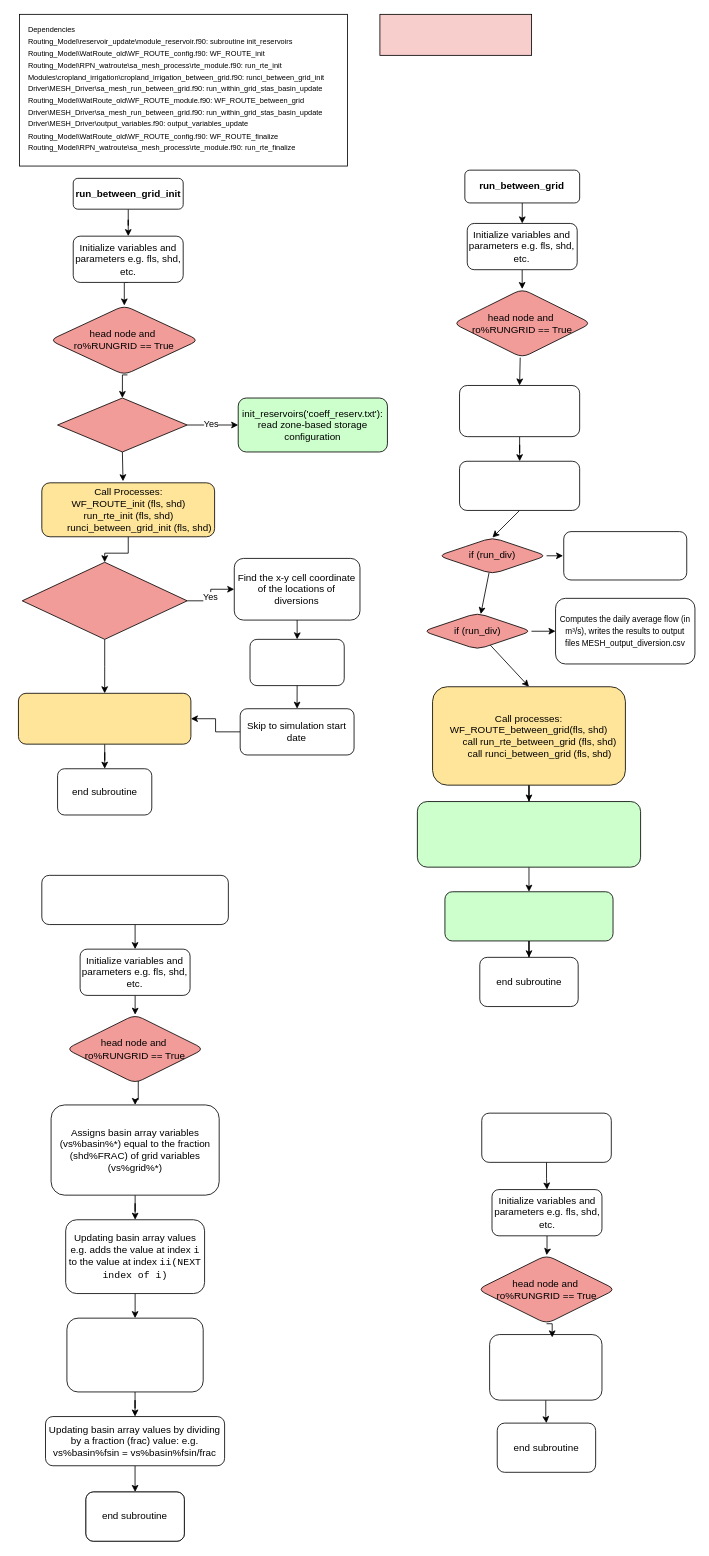
Some shapes in this 709 by 1556 pixel diagram are drawn without their labels. Here are the shapes that lost their labels. From the top down, the centre of each, then its label:
point 455,34: sa_mesh_run_between_grid.f90
point 122,424: RESERVOIRFLAG == 2
point 519,411: read reservoir release values (fms%rsvr) if exists
point 519,485: read observed streamflow values (fms%stmg) if exists
point 625,555: Read and apply diversion data based on variable dt_div
point 104,600: Read diversion.txt stored in variable: fn_div if exists
point 296,662: Find RANK at the locations
point 104,718: call run_within_grid_stas_basin_update: update basin variables
point 529,834: call run_within_grid_stas_basin_update (fls, shd): update basin variables
point 134,900: run_within_grid_stas_basin_update
point 528,916: call output_variables_update(shd): update output variables
point 546,1137: run_between_grid_finalize
point 134,1354: Updating relative area function: frac(ii) = frac(ii) + frac(i)
point 545,1367: Call processes: WF_ROUTE_finalize run_rte_finalize
